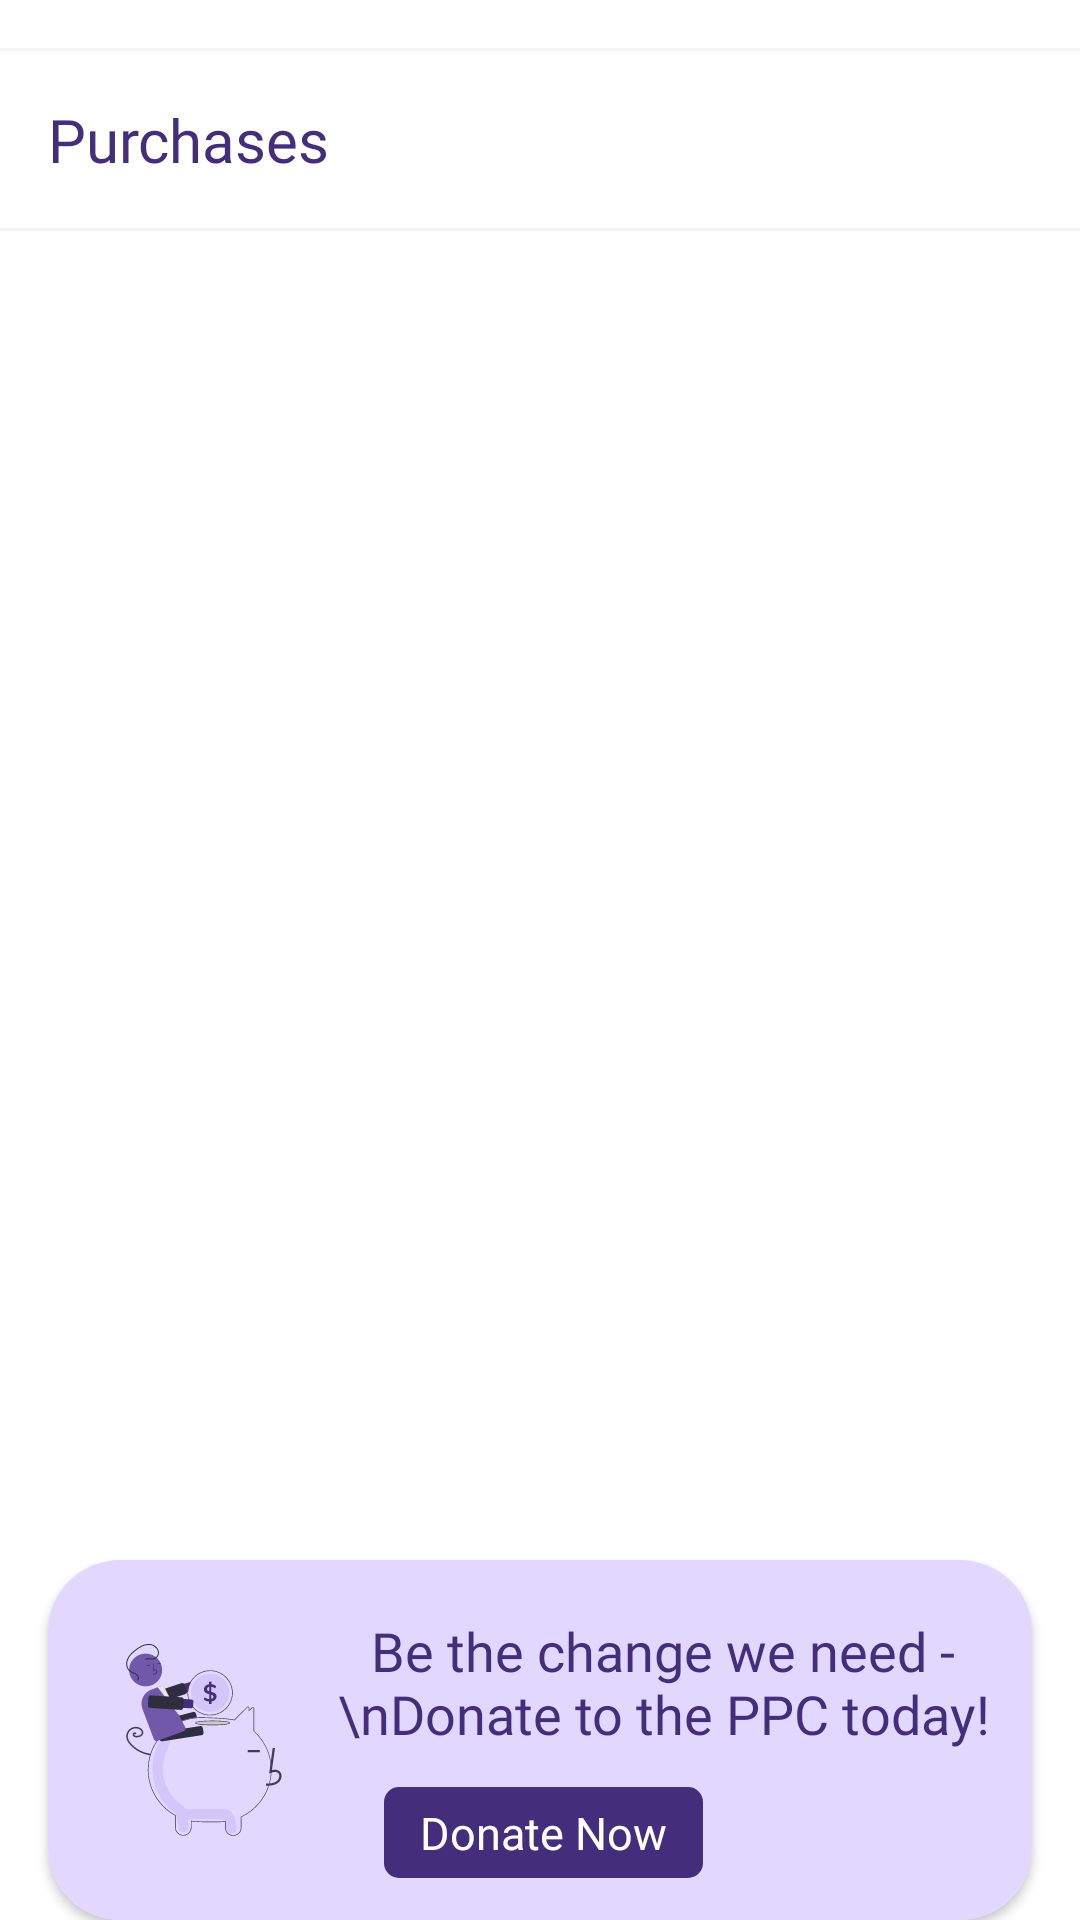

Where icons sit on this 1080 × 1920 app screen, as (x1, y1, x2, y2):
undrawsaving: (126, 1644, 282, 1836)
